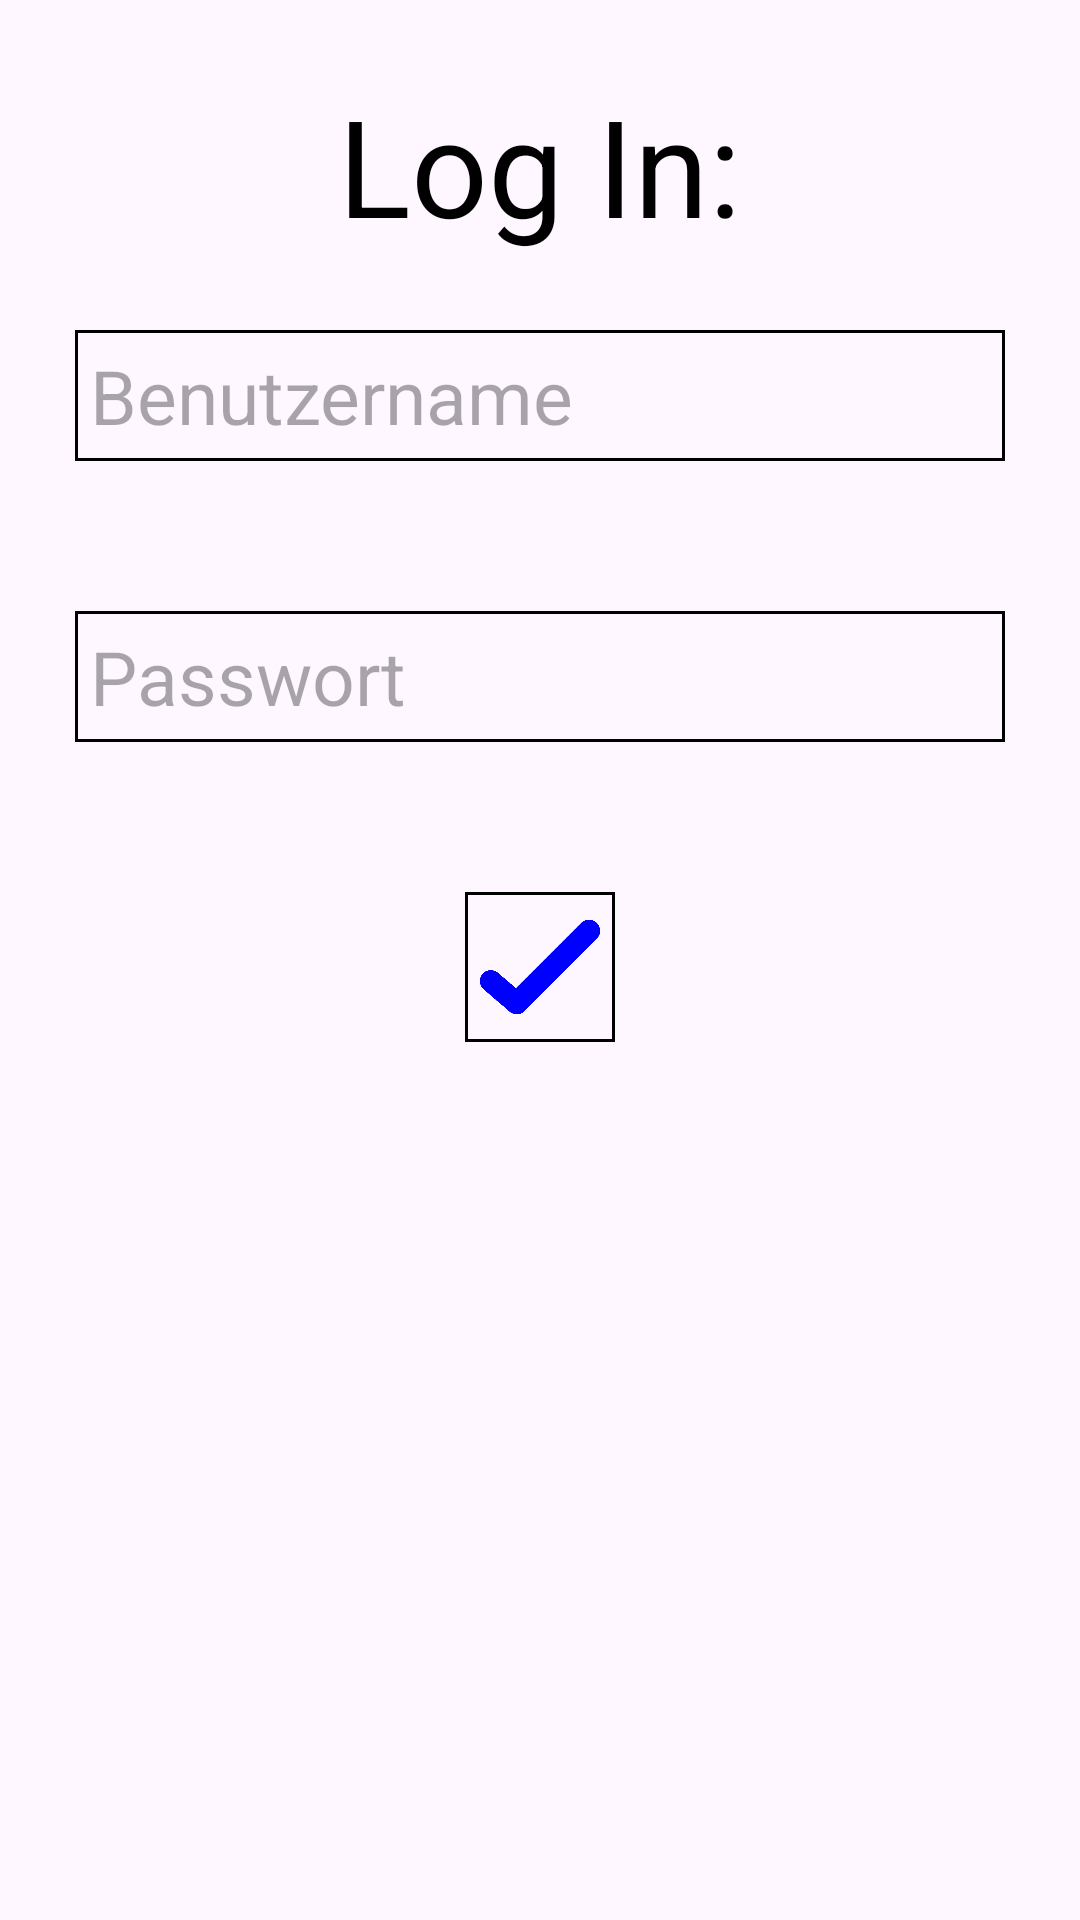

Point at icon controls on the screen. Image size 1080px x 1920px, points as [x,y].
check: [540,967]
